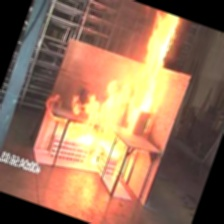fire: (27, 0, 212, 199)
